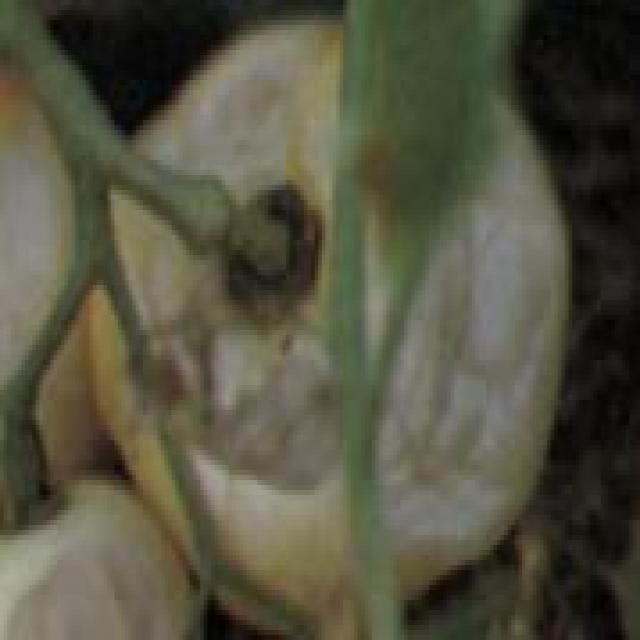Sunscald Fruit: (107, 160, 315, 253)
